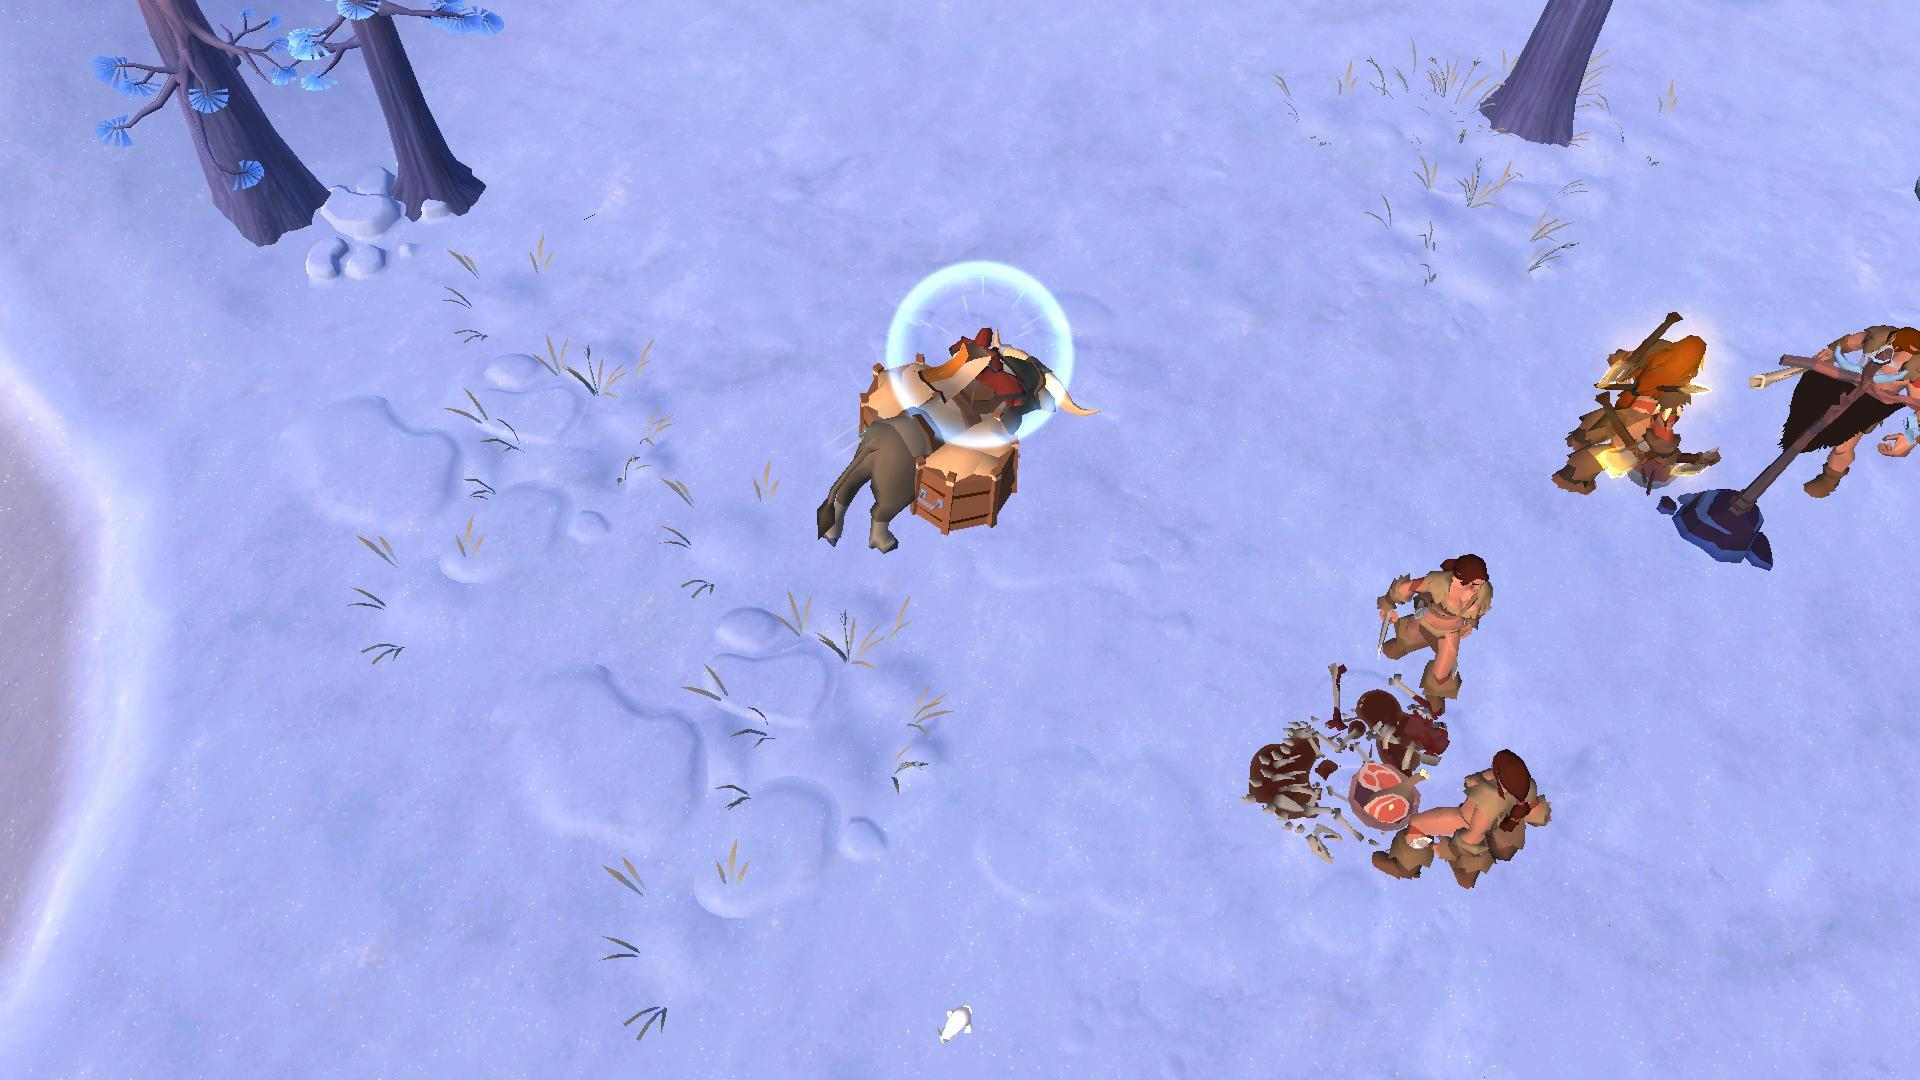enemy_factionKeeper: (1548, 307, 1718, 497), (1754, 324, 1920, 498), (1374, 744, 1544, 894), (1367, 550, 1510, 707)
